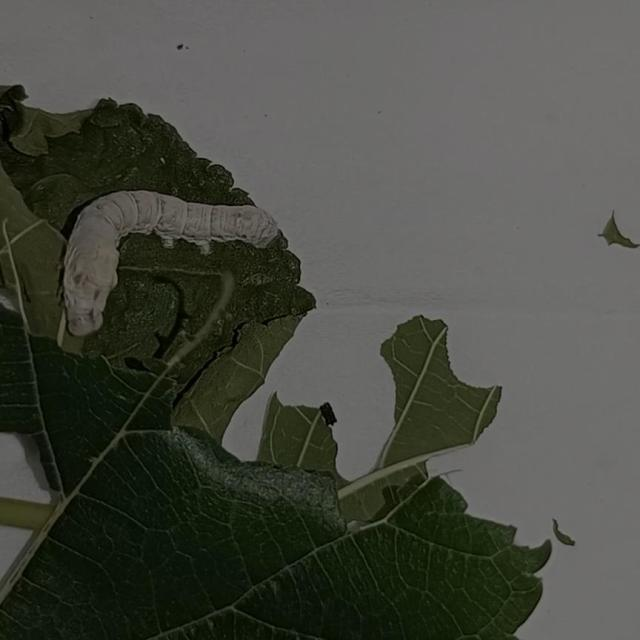Healthy: (48, 166, 293, 344)
